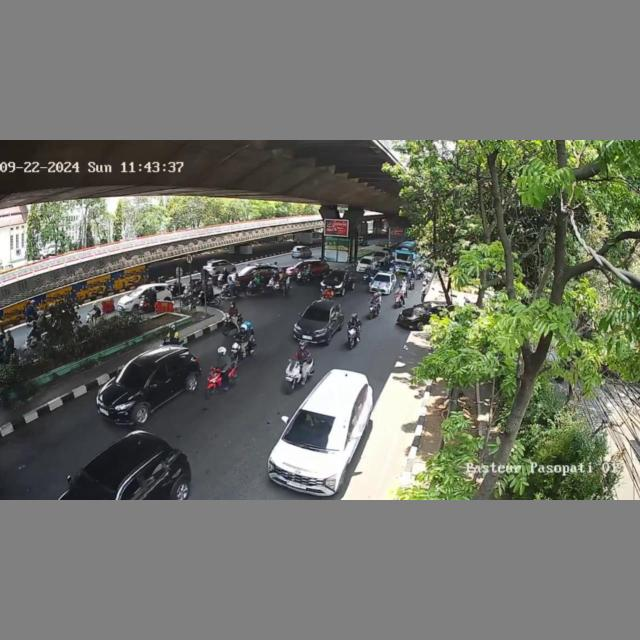windshield: (283, 410, 350, 453), (115, 362, 154, 390), (300, 306, 332, 322), (373, 274, 390, 284)
